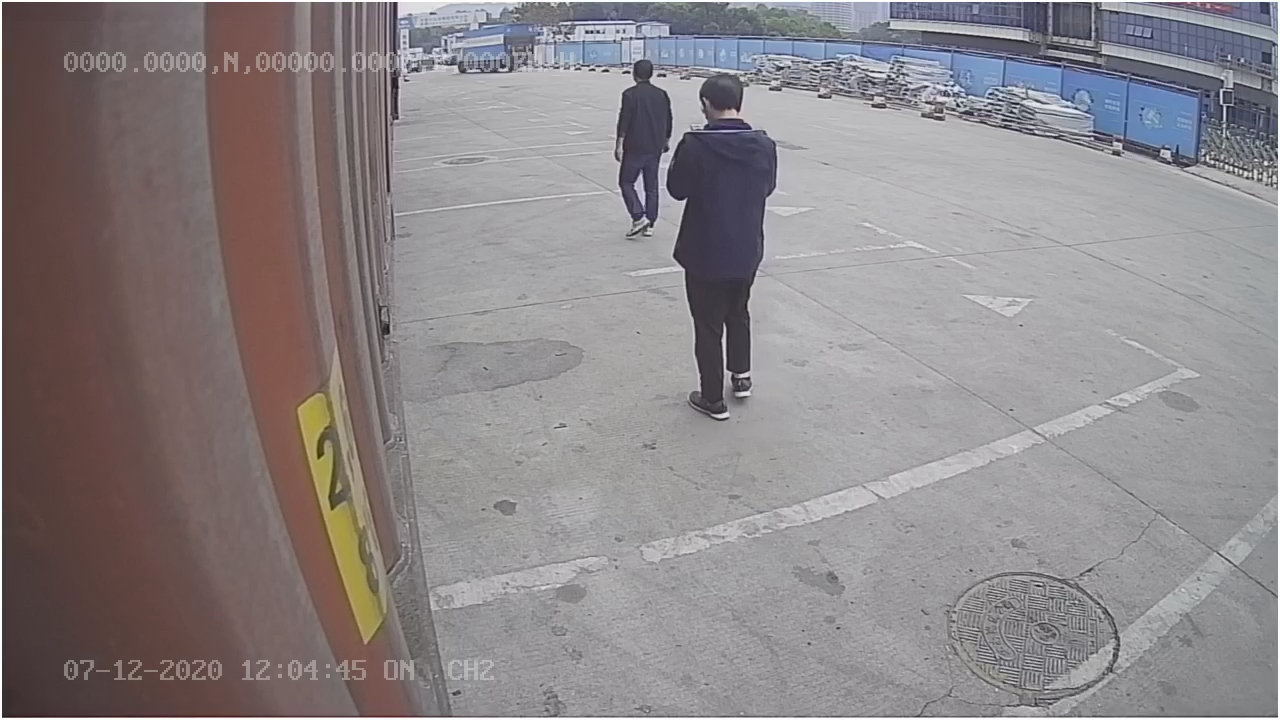person: (668, 74, 771, 422)
